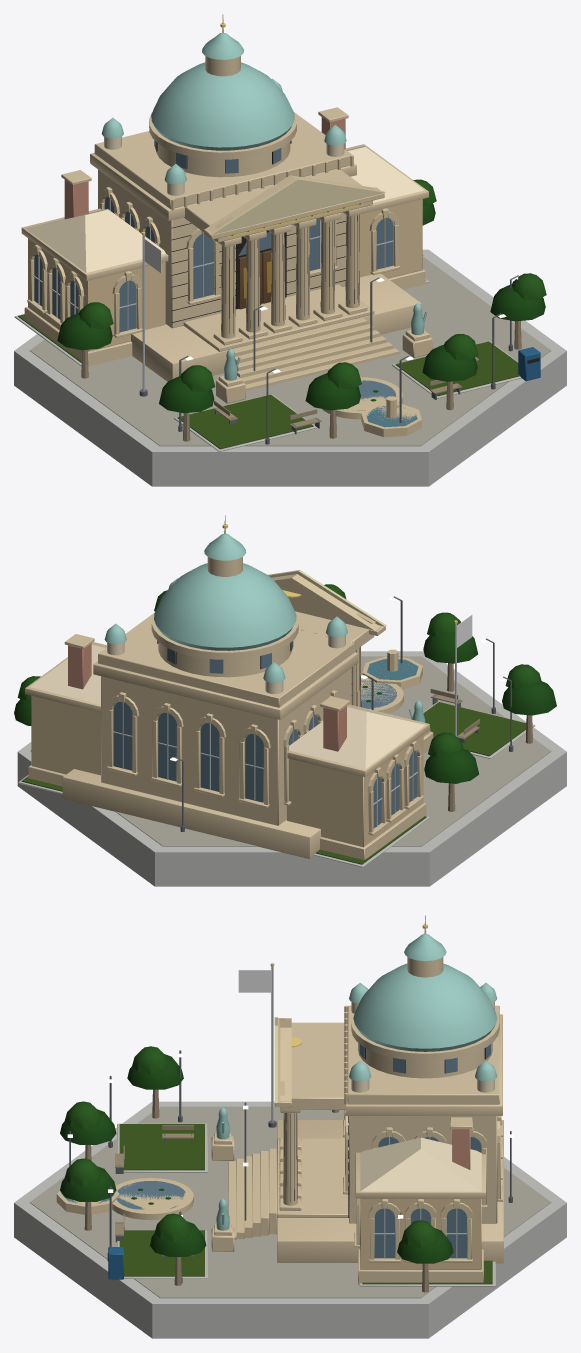
Rendered from library_arab.glb.
3 views of the same model, one above another, from view 1: azimuth 30°, elevation 25°; view 2: azimuth 150°, elevation 25°; view 3: azimuth 270°, elevation 25° (orthographic).
Parts seen in each view (by area): view 1: stone, wall_concrete, pavers, copper, leaf, plaster, glass, turf, dark, wood, steel_dark, brick (+2 smaller); view 2: stone, wall_concrete, copper, pavers, glass, leaf, plaster, turf, brick, wood, steel_dark; view 3: stone, wall_concrete, pavers, copper, leaf, turf, plaster, glass, wood, steel_dark, banner, brick (+2 smaller).
Part boxes in pixels (bbox=[...]): stone: bbox=[21, 56, 432, 437]; wall_concrete: bbox=[14, 198, 566, 486]; pavers: bbox=[29, 256, 551, 446]; copper: bbox=[101, 33, 427, 380]; leaf: bbox=[57, 179, 546, 413]; plaster: bbox=[26, 136, 424, 272]; glass: bbox=[34, 140, 417, 427]; turf: bbox=[18, 280, 519, 449]; dark: bbox=[156, 141, 539, 363]; wood: bbox=[81, 247, 521, 441]; steel_dark: bbox=[139, 275, 518, 444]; brick: bbox=[64, 117, 345, 218]; stone: bbox=[25, 557, 433, 859]; wall_concrete: bbox=[17, 651, 566, 886]; copper: bbox=[104, 533, 425, 722]; pavers: bbox=[115, 656, 551, 846]; glass: bbox=[113, 640, 418, 828]; leaf: bbox=[14, 584, 556, 783]; plaster: bbox=[29, 635, 425, 768]; turf: bbox=[21, 702, 526, 864]; brick: bbox=[68, 643, 346, 751]; wood: bbox=[430, 663, 532, 811]; steel_dark: bbox=[175, 596, 513, 831]; stone: bbox=[56, 957, 503, 1284]; wall_concrete: bbox=[14, 1101, 566, 1338]; pavers: bbox=[29, 1106, 551, 1298]; copper: bbox=[216, 934, 497, 1230]; leaf: bbox=[60, 1046, 453, 1263]; turf: bbox=[119, 1124, 492, 1284]; plaster: bbox=[351, 1001, 494, 1191]; glass: bbox=[61, 1044, 490, 1258]; wood: bbox=[84, 1089, 428, 1292]; steel_dark: bbox=[69, 1050, 512, 1282]; banner: bbox=[238, 970, 271, 992]; brick: bbox=[452, 1129, 470, 1169].
Size of the model in its own units: 21.41 by 15.8 by 24.6.
